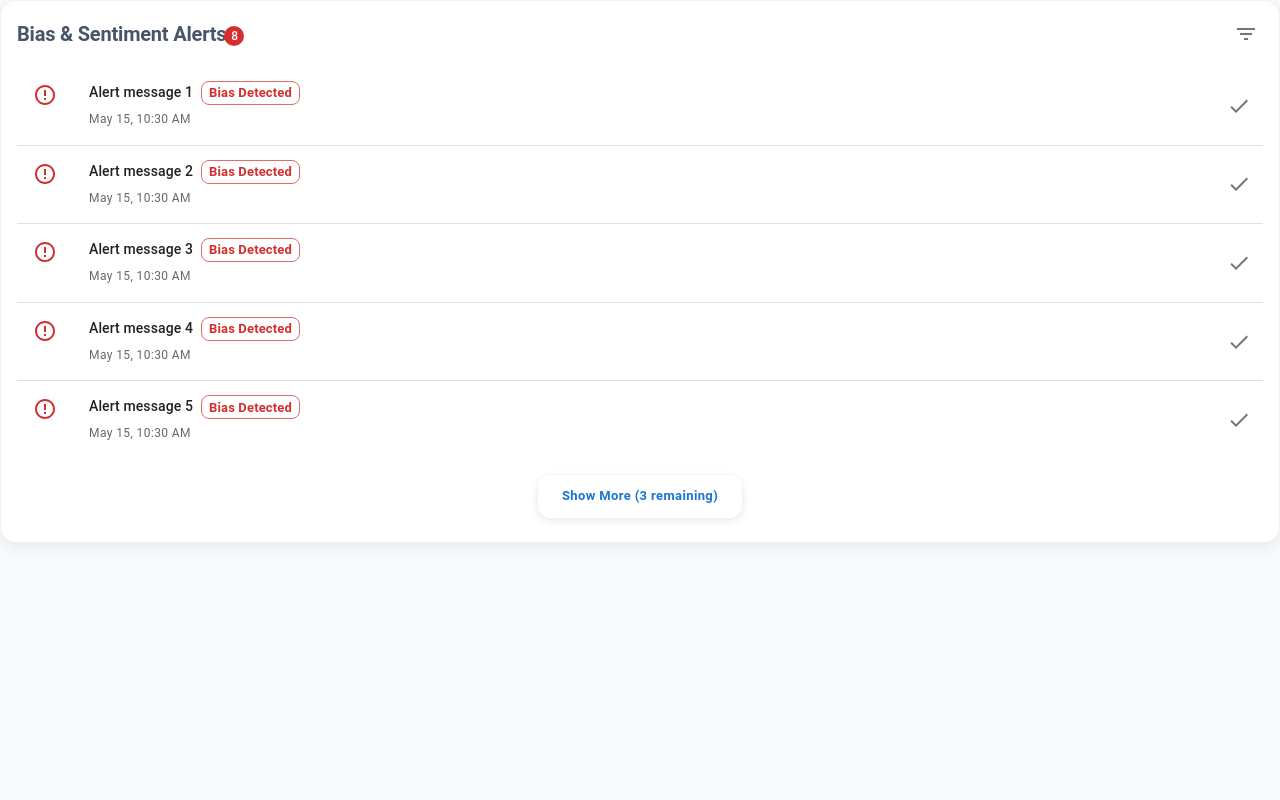
Test: BiasAlertsPanel › shows more alerts when "Show More" button is clicked
The image size is (1280, 800).
Expected: the text "Alert message 1" is shown, [89,82,193,104]
Expected: the text "Alert message 5" is shown, [89,396,193,418]
// Click "Show More"
Click the button "Show More (3 remaining)": (640, 496) [538,475,742,518]
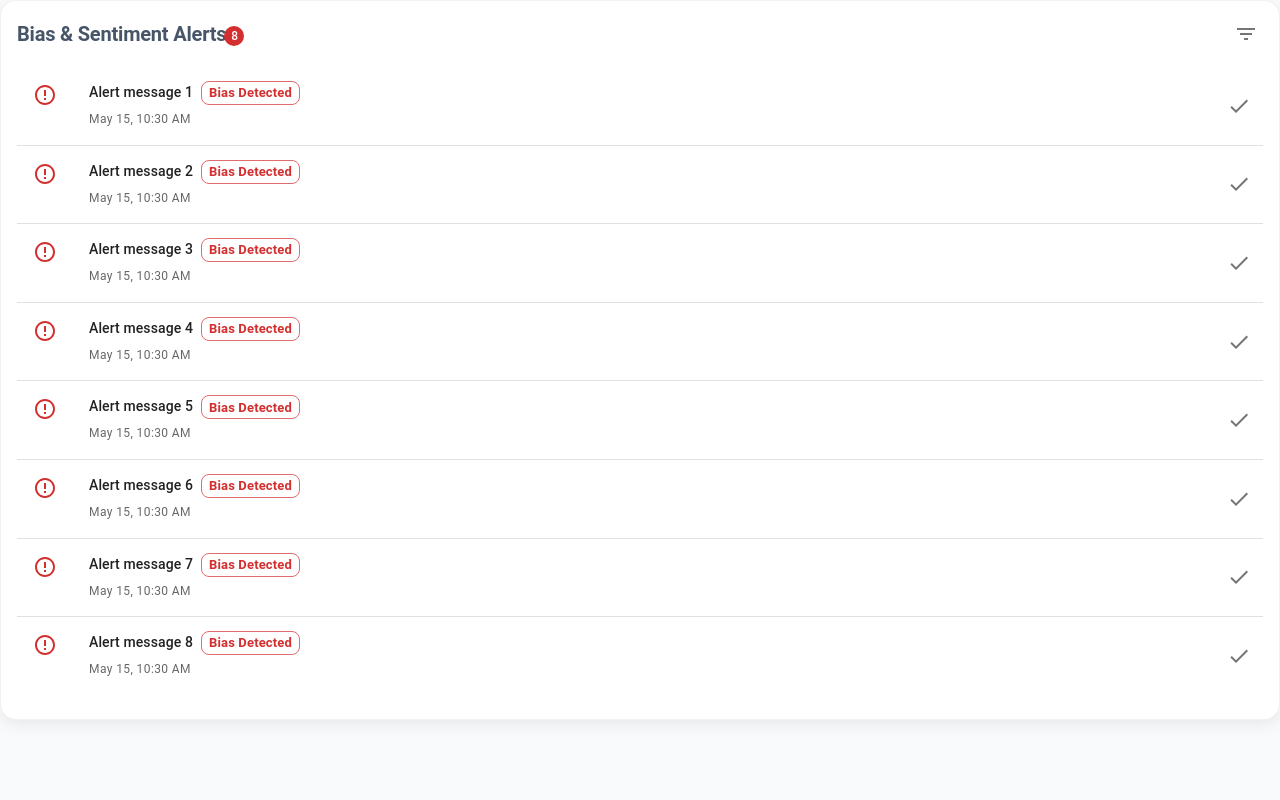
Result: the text "Alert message 6" is shown at [89,475,193,497]
Result: the text "Alert message 8" is shown at [89,632,193,654]
